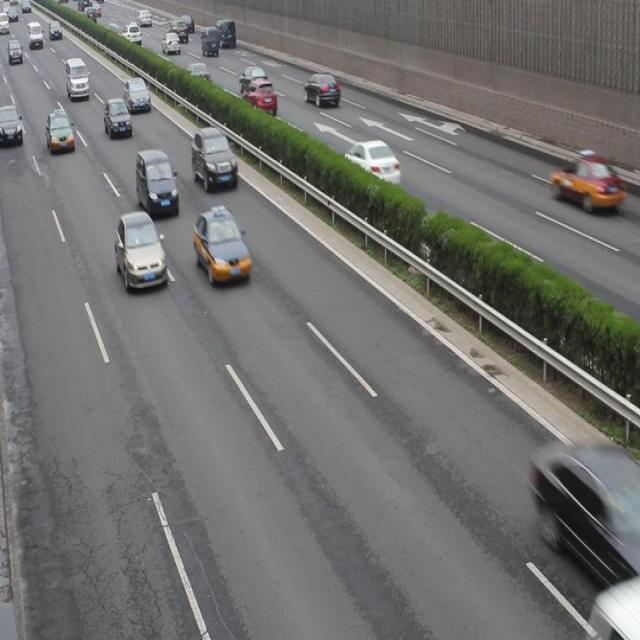car: (532, 443, 640, 583), (194, 206, 252, 284), (550, 150, 620, 213), (115, 214, 168, 292), (191, 128, 238, 190), (138, 148, 178, 212), (344, 140, 399, 186), (304, 72, 339, 107), (242, 80, 276, 114), (104, 96, 132, 137), (47, 112, 74, 153), (1, 105, 24, 145), (125, 80, 151, 112), (240, 66, 267, 92), (185, 62, 211, 87), (202, 27, 220, 58), (162, 32, 180, 56), (169, 20, 188, 42), (122, 26, 142, 45), (9, 41, 24, 66), (177, 13, 194, 32)
truck: (67, 59, 90, 99), (213, 17, 236, 48)
